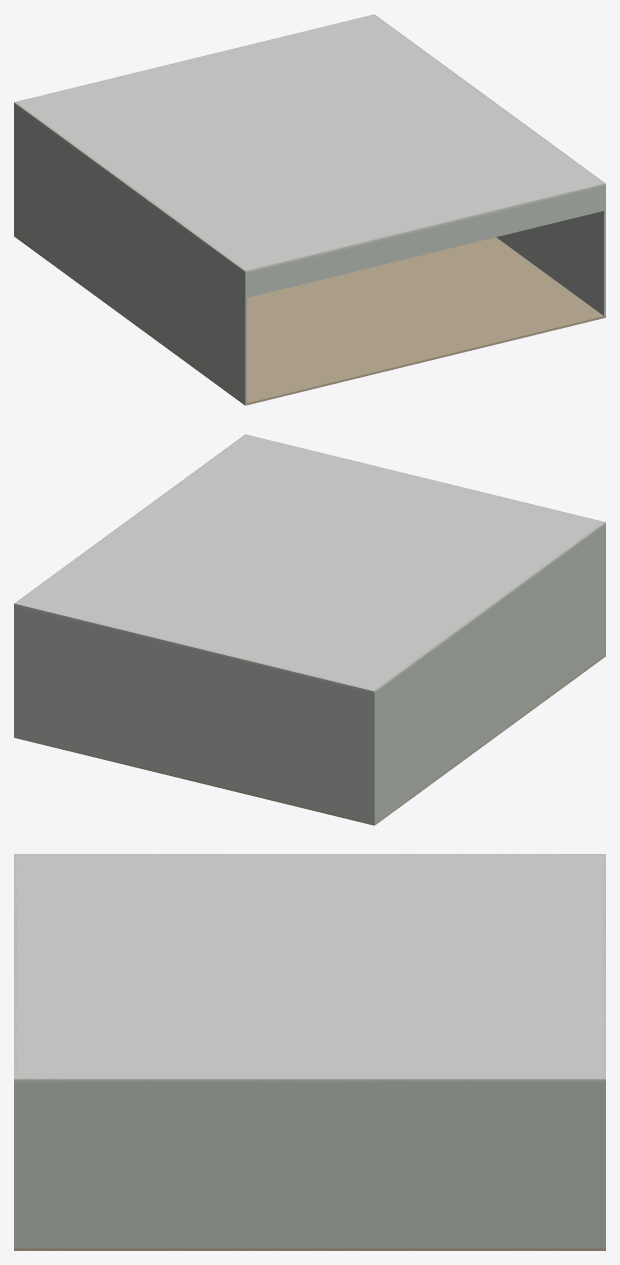
Rendered from classroom_neutral_001.glb.
3 renders of one model, top to bottom at view 1: azimuth 30°, elevation 25°; view 2: azimuth 150°, elevation 25°; view 3: azimuth 270°, elevation 25°, orthographic. The views are drawn at different scales.
Visible parts, largest first — view 1: ceiling, floor, left_wall, front_top, right_wall; view 2: ceiling, back_wall, left_wall, floor; view 3: ceiling, right_wall, floor, back_wall, front_top.
Part boxes in pixels (x1,y1,x2,y2): ceiling: (14, 14, 605, 273); floor: (14, 235, 605, 405); left_wall: (14, 102, 247, 404); front_top: (244, 183, 605, 297); right_wall: (374, 15, 605, 317); ceiling: (14, 434, 605, 693); back_wall: (14, 603, 375, 824); left_wall: (372, 522, 605, 825); floor: (14, 654, 605, 825); ceiling: (14, 854, 605, 1081); right_wall: (14, 1078, 605, 1250); floor: (14, 1248, 605, 1250); back_wall: (603, 854, 605, 1250); front_top: (14, 854, 16, 1113).
Size of the model in its own units: 9 by 3.2 by 10.
